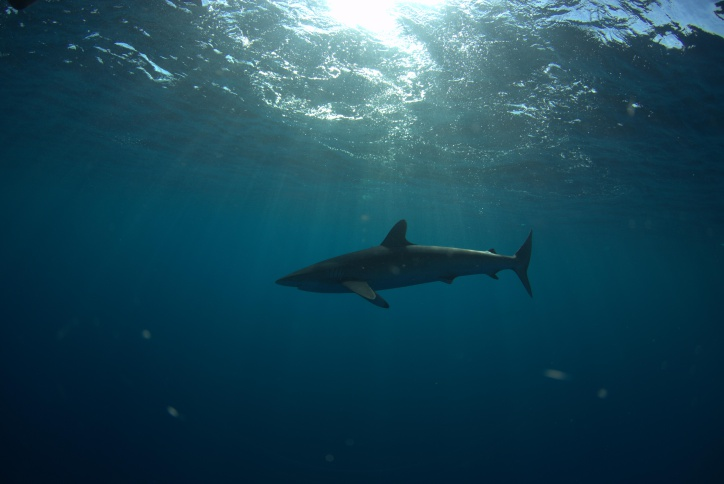Sedoso: (268, 212, 550, 313)
